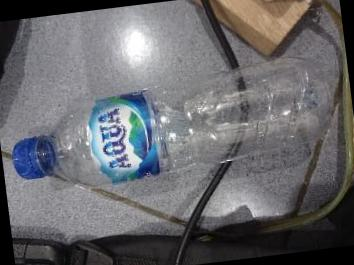Plastik: (12, 57, 332, 185)
